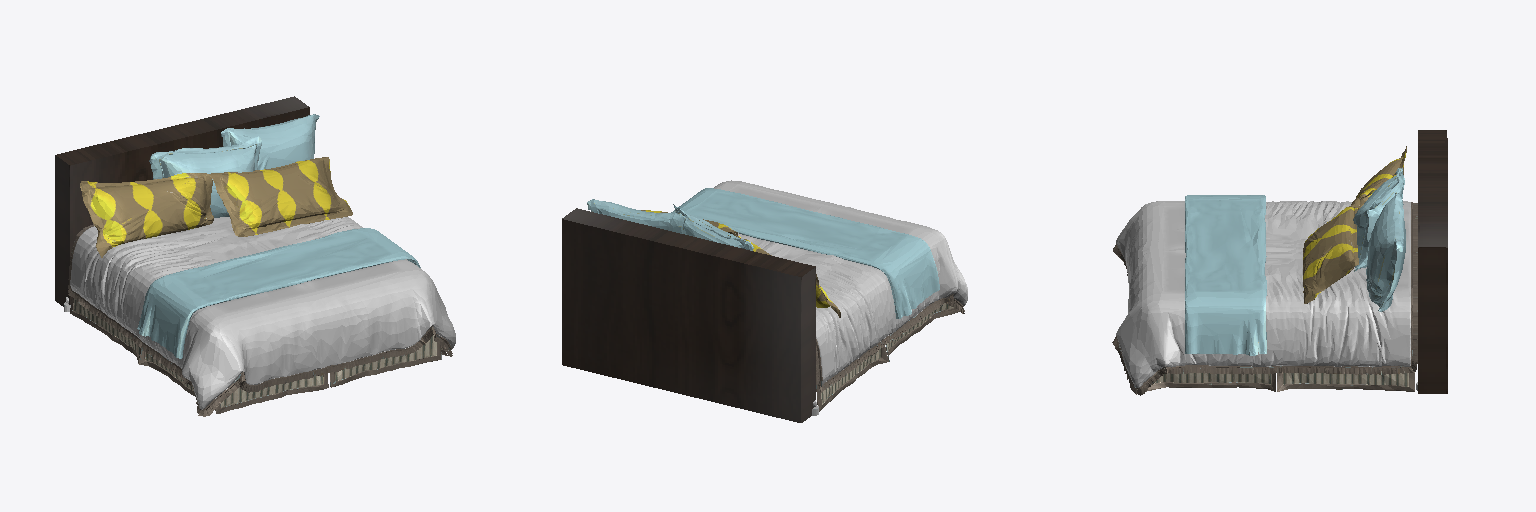
3 renders of one model, left to right at view 1: azimuth 30°, elevation 25°; view 2: azimuth 150°, elevation 25°; view 3: azimuth 270°, elevation 25°, orthographic.
Size of the model in its own units: 1.93 by 1.1 by 2.13.
Materials: 1 (1 with a texture image).